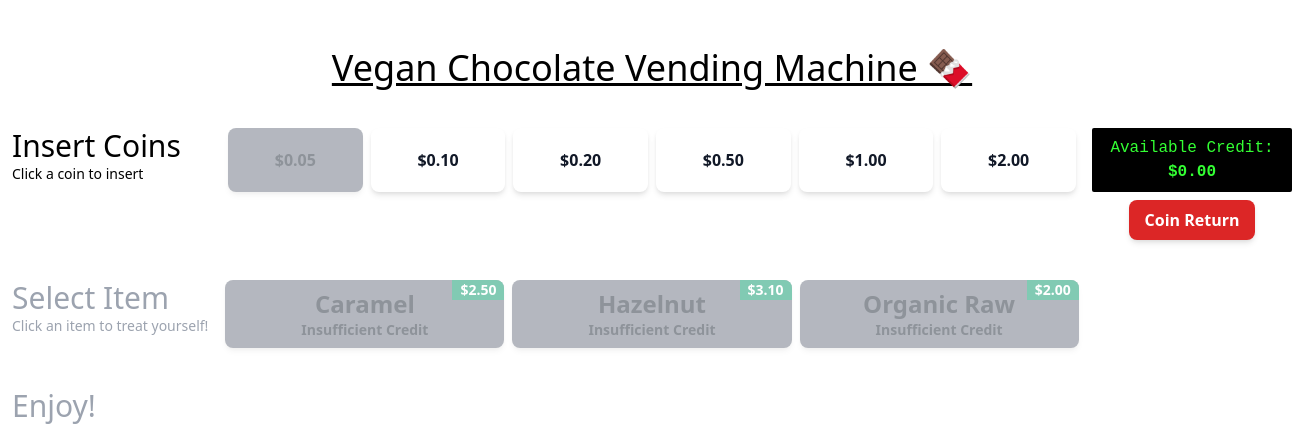
Test: vending machine tests › should not allow a purchase if there is insufficient credit
The image size is (1292, 441).
Click the button "$0.10" at (438, 160), box x1=371 y1=128 x2=505 y2=192
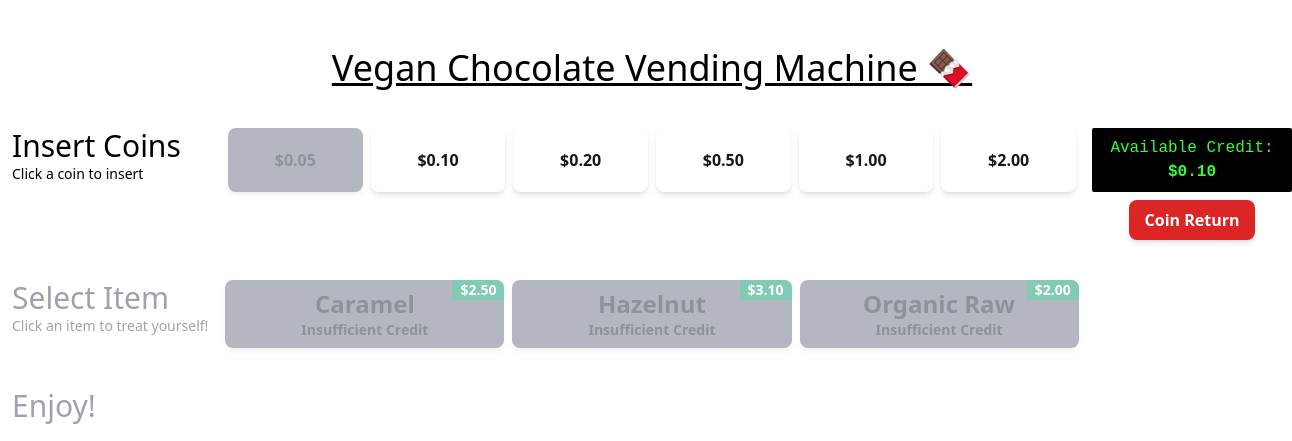
Click the button "$0.50" at (723, 160), box x1=656 y1=128 x2=791 y2=192
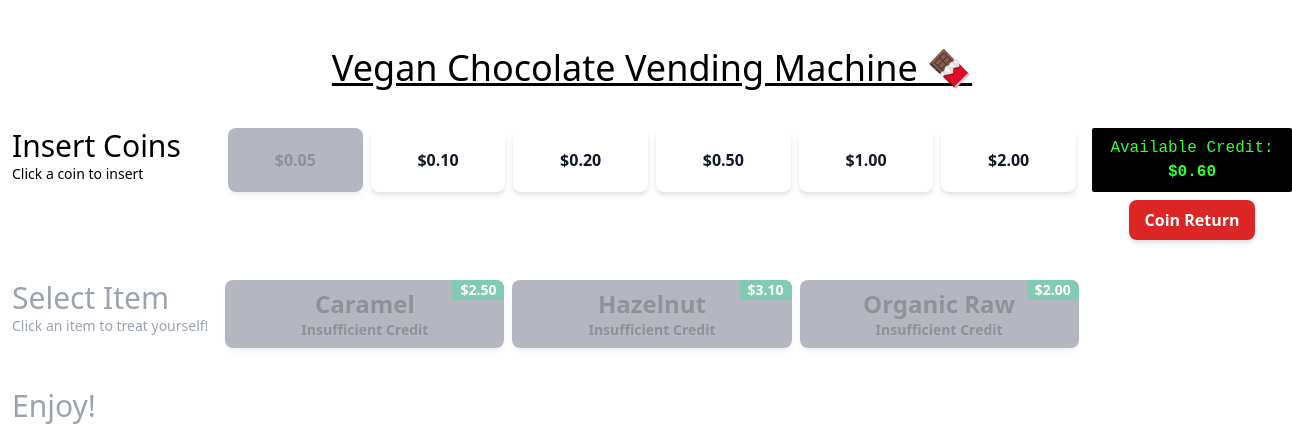
Expected: the text "$0.60" is shown, x1=1168 y1=163 x2=1216 y2=181
Click the button titled "Caramel" at (365, 314), box x1=225 y1=280 x2=504 y2=348
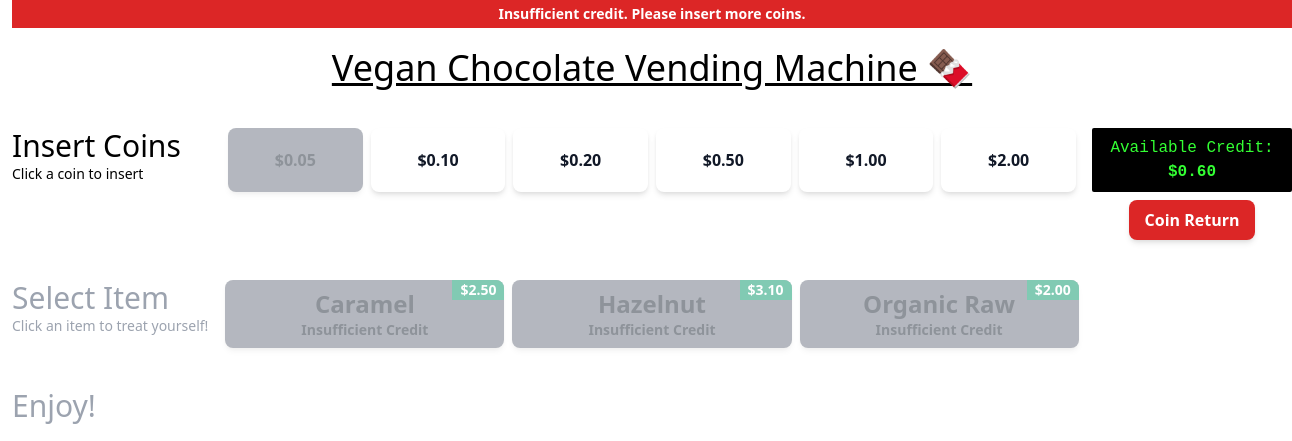
Expected: the text "$0.60" is shown, x1=1168 y1=163 x2=1216 y2=181
Expected: the text "Insufficient credit. Please insert more coins." is shown, x1=498 y1=4 x2=806 y2=23
